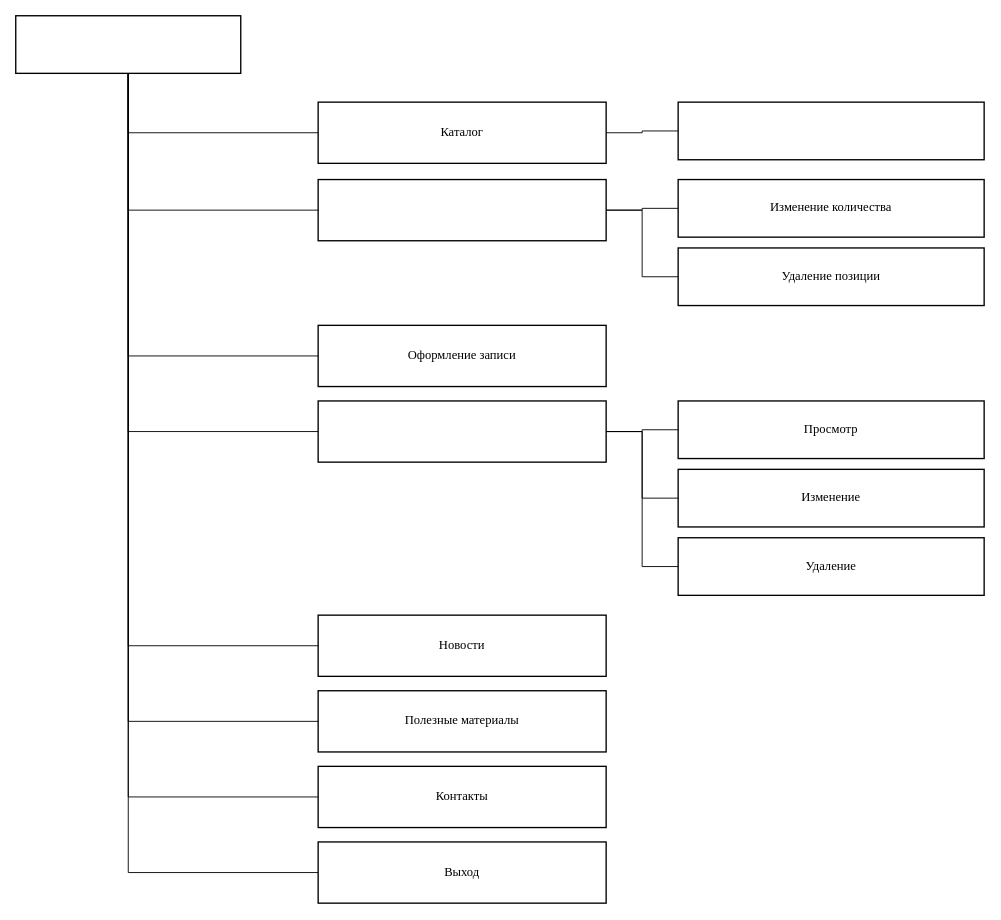
The diagram is 1001 pixels wide and 920 high, and some of its shapes have lost their labels. Each missing label, with the box of its shape:
Главная: (15, 15, 241, 74)
Карточка услуги: (677, 101, 984, 160)
Корзина: (317, 178, 606, 241)
Мои заказы: (317, 400, 606, 462)
